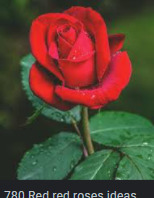RedRose: (13, 1, 135, 119)
